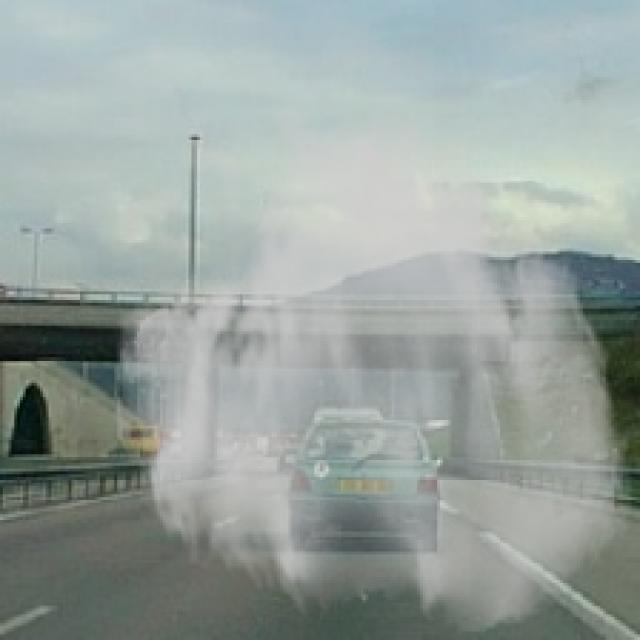smoke: (109, 97, 637, 637)
